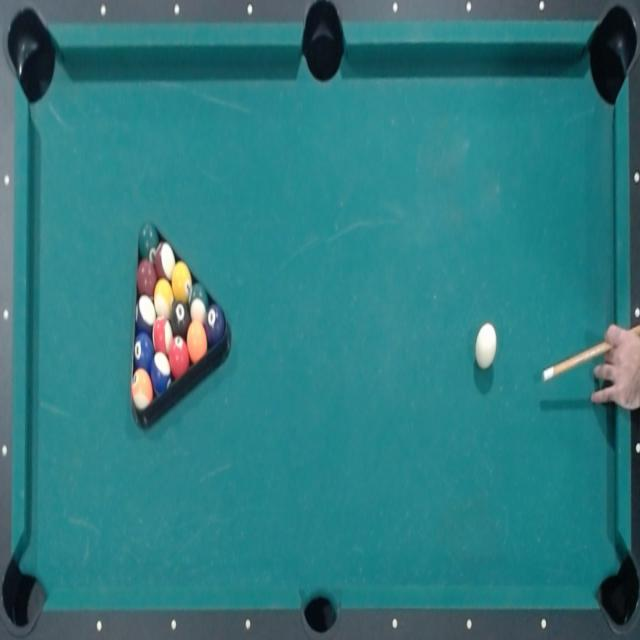black_8ball: (171, 300, 190, 336)
blue_solid: (134, 333, 153, 369)
blue_stripe: (151, 352, 170, 395)
cue_ball: (472, 321, 499, 372)
cue_body: (554, 316, 640, 388)
cue_tip: (540, 365, 556, 384)
green_solid: (138, 223, 159, 261)
green_stripe: (188, 285, 209, 321)
maroon_solid: (135, 260, 158, 298)
maroon_stripe: (155, 241, 175, 279)
orange_solid: (185, 322, 207, 362)
orange_stripe: (132, 368, 154, 409)
player_hand: (588, 323, 640, 414)
purple_solid: (205, 306, 224, 342)
purple_stripe: (134, 296, 155, 333)
red_solid: (169, 336, 189, 379)
red_stripe: (152, 317, 173, 354)
yellow_solid: (172, 261, 192, 301)
yellow_stripe: (154, 278, 174, 320)
